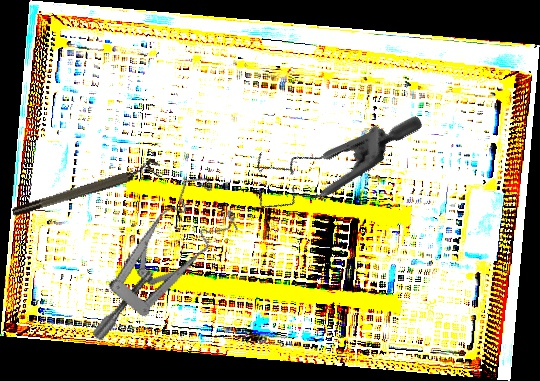Fixation Ring: (9, 157, 163, 219)
Speculum: (234, 54, 425, 257), (49, 167, 259, 344)
